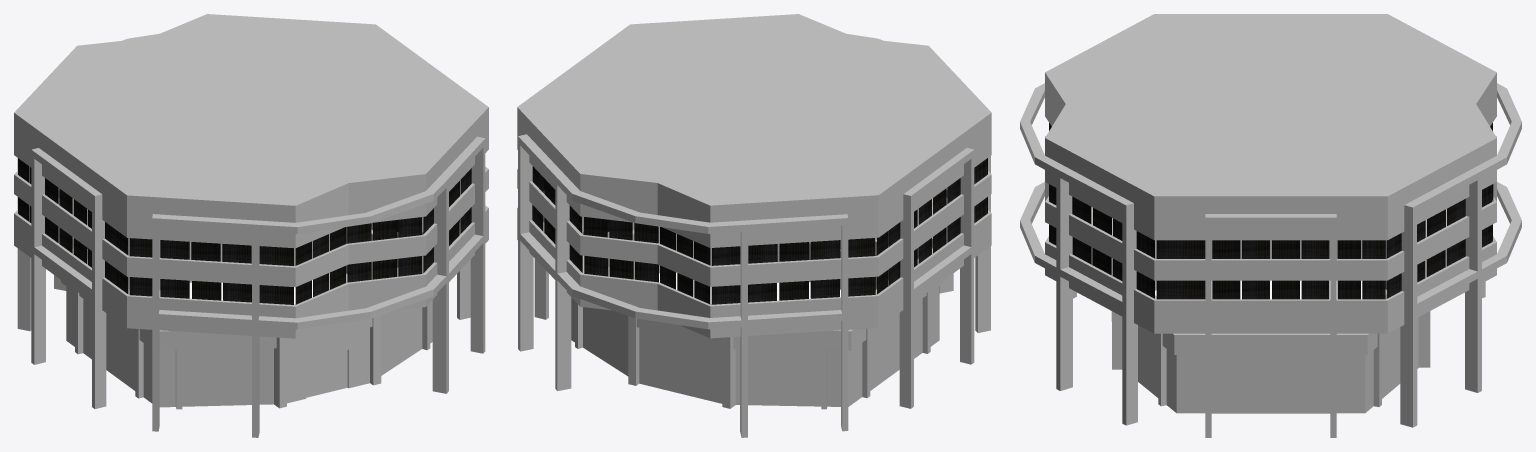
The picture shows the model from 3 angles, left to right: view 1: azimuth 30°, elevation 25°; view 2: azimuth 150°, elevation 25°; view 3: azimuth 270°, elevation 25°; orthographic projection. The views are drawn at different scales.
Visible parts, largest first — view 1: BB-080; view 2: BB-080; view 3: BB-080.
Part boxes in pixels (bbox=[...]): BB-080: bbox=[14, 14, 488, 437]; BB-080: bbox=[517, 14, 991, 437]; BB-080: bbox=[1020, 14, 1521, 437].
Size of what is drawn, in the model's own units: 30.39 by 17.75 by 33.94.
